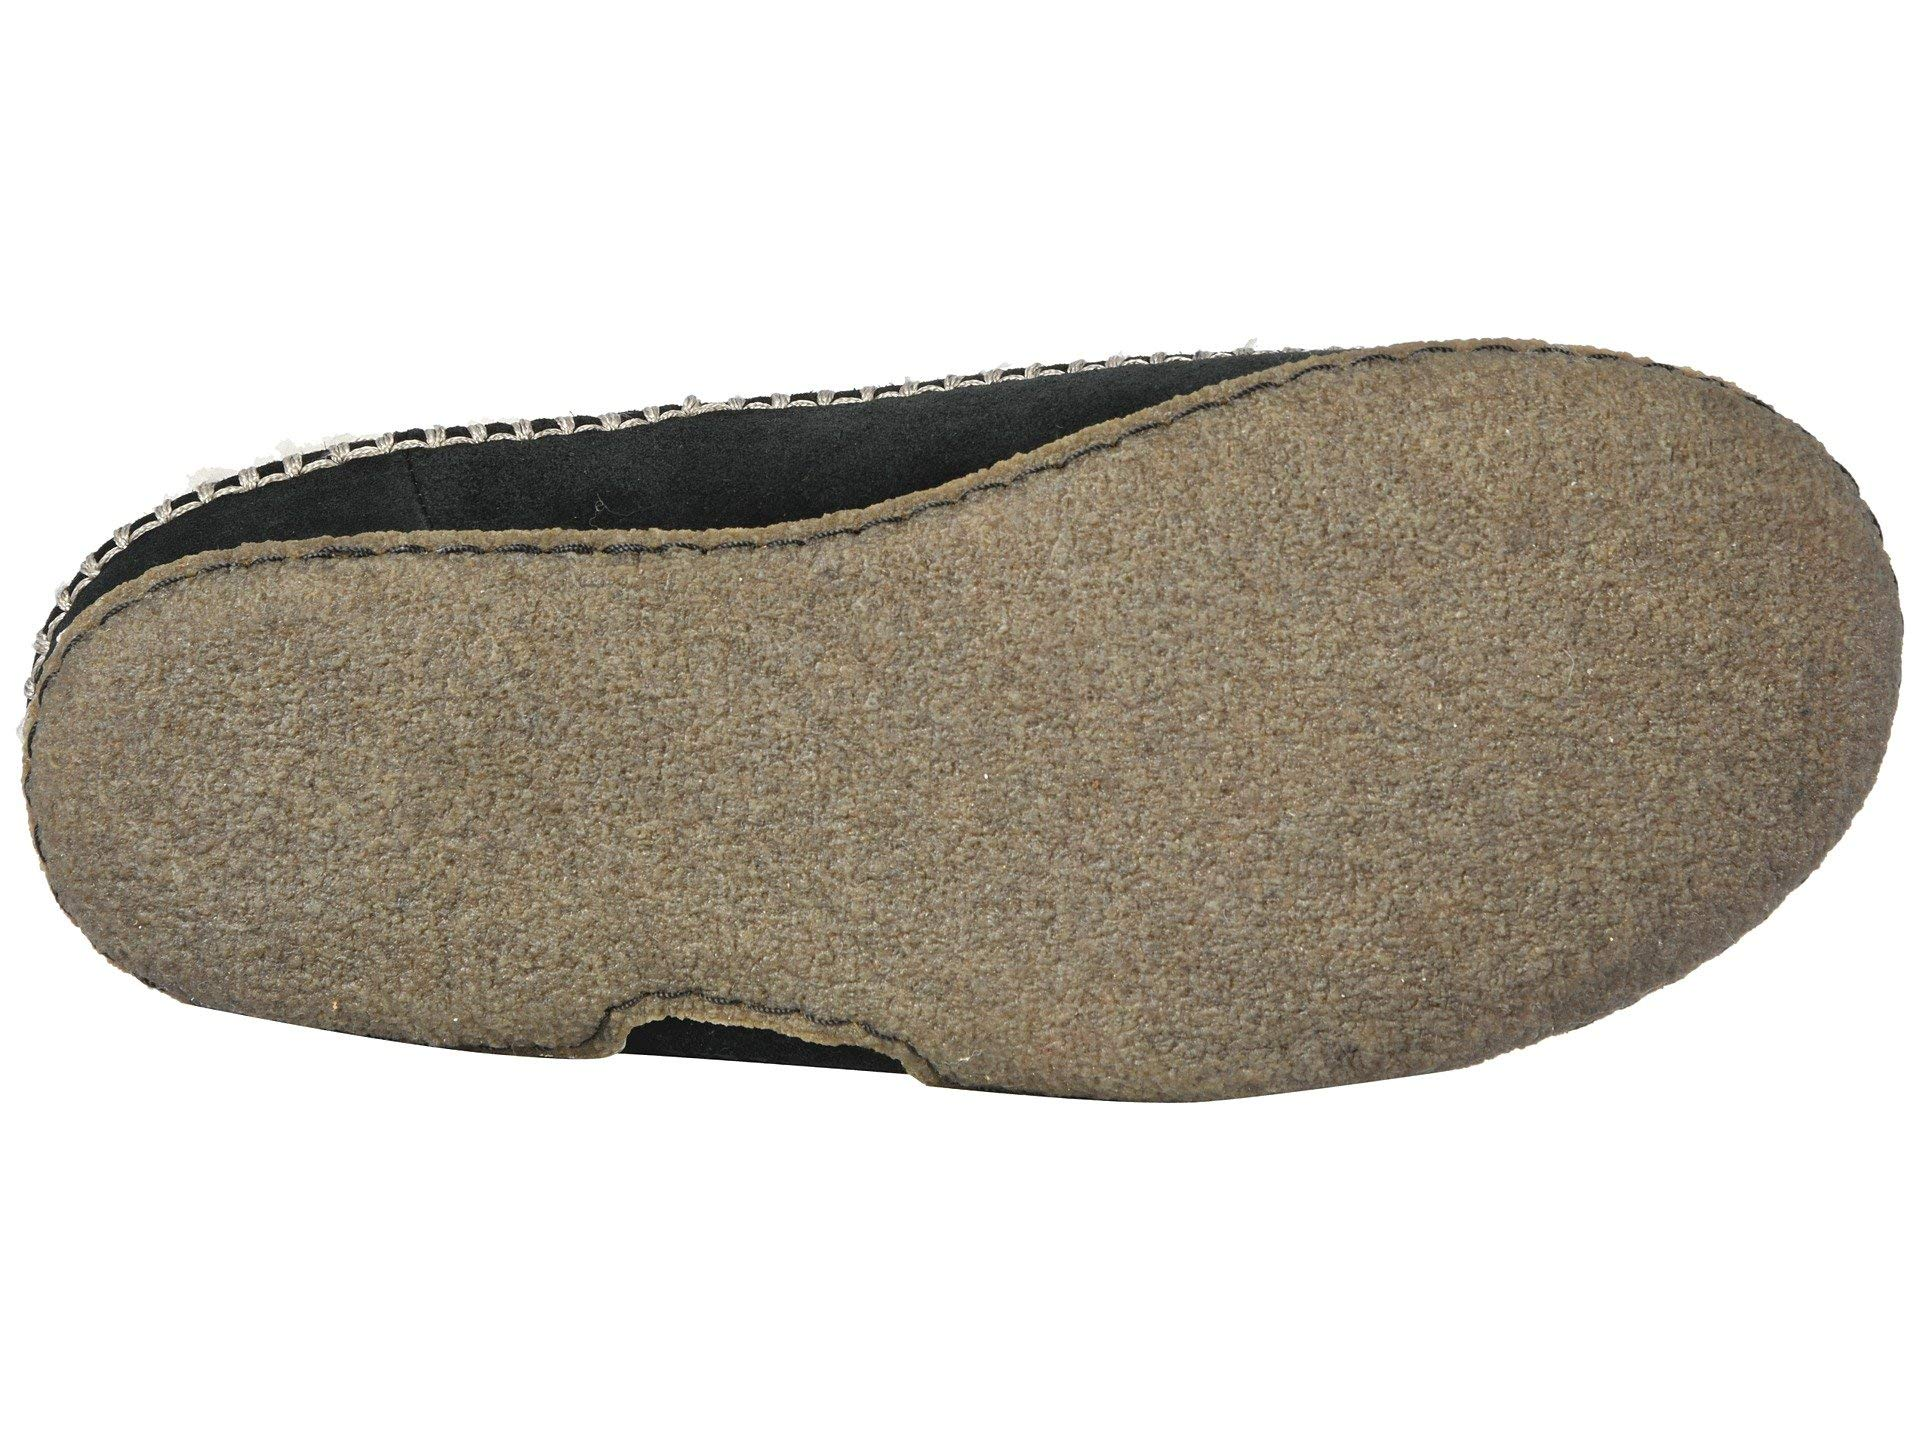other: (295, 567, 1606, 903)
